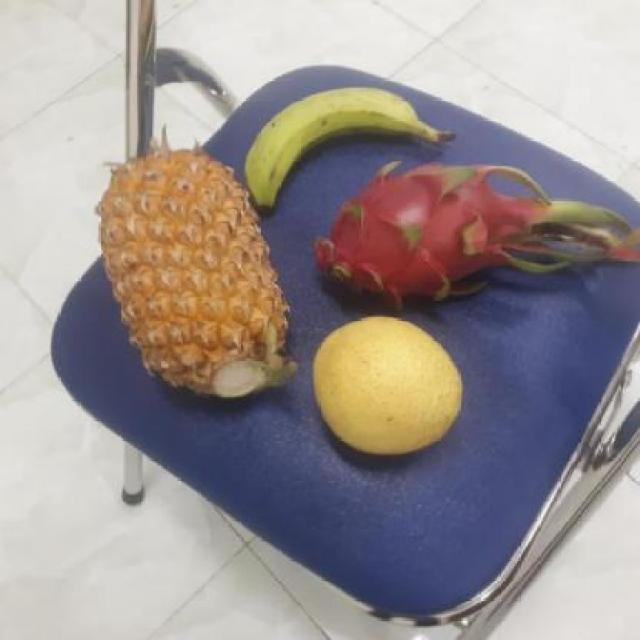banana: (244, 88, 435, 208)
dragon fruit: (306, 163, 532, 317)
pear: (308, 315, 451, 458)
pineapple: (94, 152, 291, 403)
